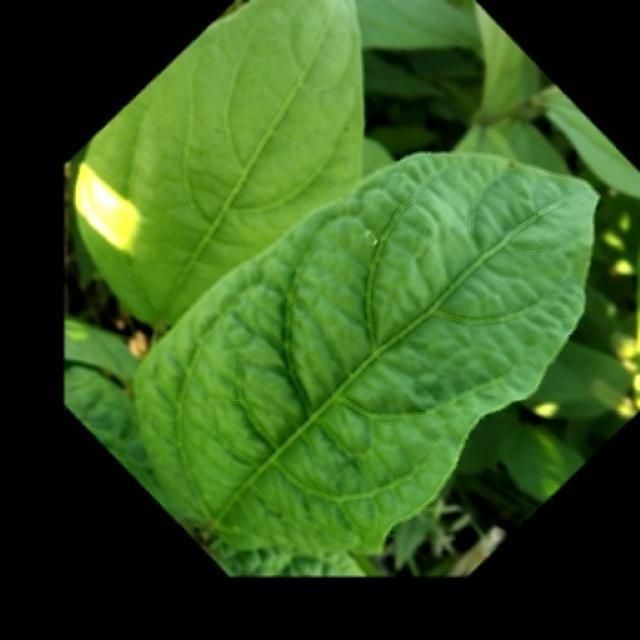leaves: (82, 43, 640, 635), (16, 0, 445, 345)
